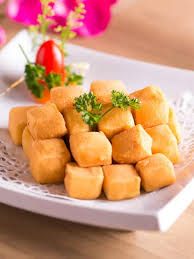Tahu goreng: (27, 138, 71, 183), (110, 124, 157, 165), (131, 80, 170, 129), (62, 161, 104, 203), (25, 99, 68, 140), (99, 162, 140, 204), (67, 131, 112, 166), (137, 151, 177, 190), (149, 123, 185, 165), (91, 104, 136, 136), (87, 77, 130, 108), (49, 83, 92, 110), (6, 101, 30, 146)
